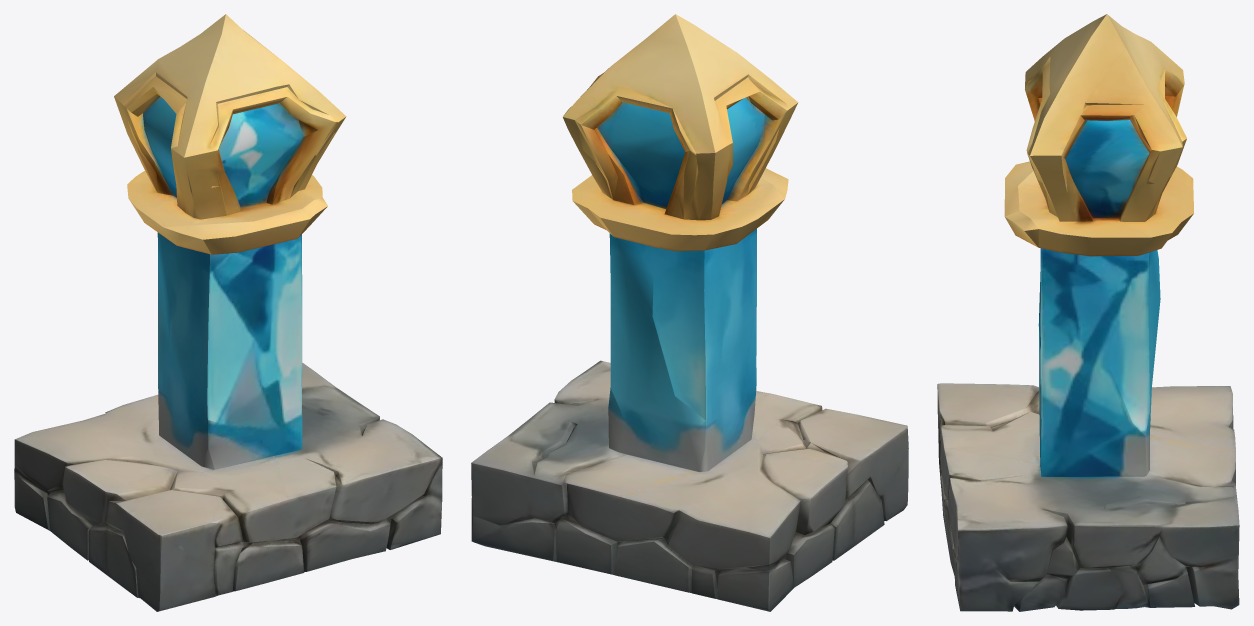
The model's file is checkpointBeacon.glb.
3 renders of one model, left to right at view 1: azimuth 30°, elevation 25°; view 2: azimuth 150°, elevation 25°; view 3: azimuth 270°, elevation 25°, orthographic. The views are drawn at different scales.
Visible parts, largest first — view 1: model; view 2: model; view 3: model.
Boxes of the visible parts, <box> form: model: <box>14,14,442,611</box>; model: <box>471,14,908,611</box>; model: <box>937,14,1239,611</box>.
Size of the model in its own units: 1.17 by 1.9 by 0.9893.
1 material, 1 textured.
